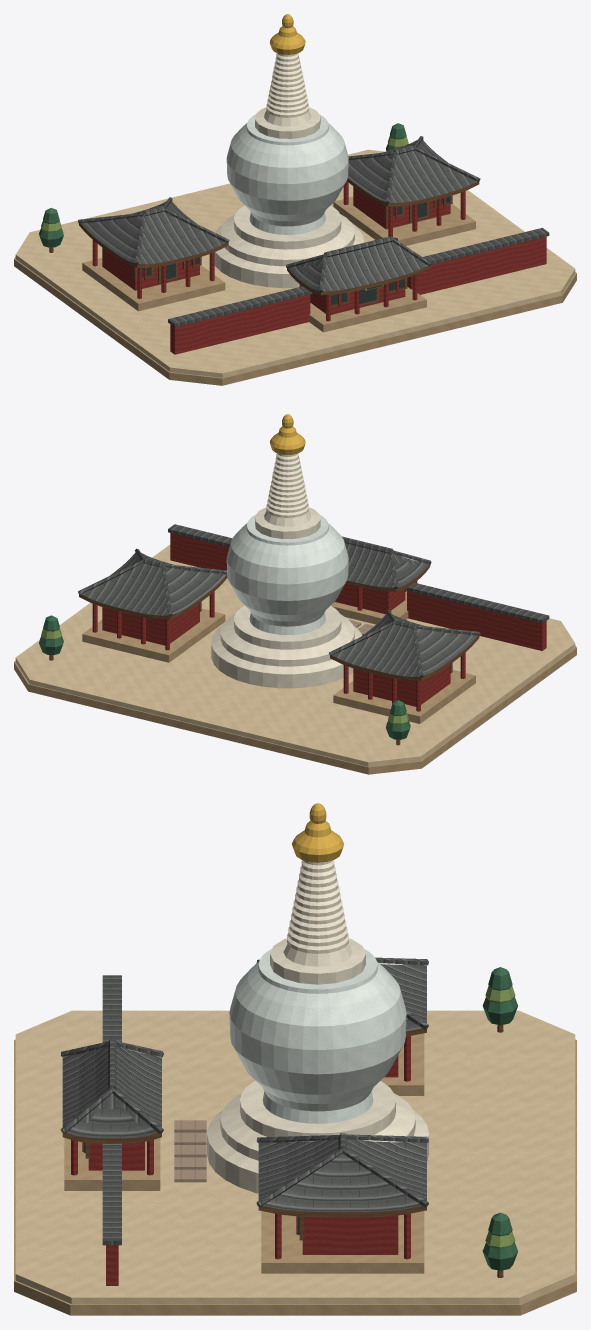
Rendered from wutai.glb.
3 views of the same model, one above another, from view 1: azimuth 30°, elevation 25°; view 2: azimuth 150°, elevation 25°; view 3: azimuth 270°, elevation 25° (orthographic). The views are drawn at different scales.
Visible parts, largest first — view 1: 五台山; view 2: 五台山; view 3: 五台山.
Part boxes in pixels (x1,y1,x2,y2): 五台山: (14, 14, 576, 385); 五台山: (14, 414, 576, 774); 五台山: (14, 803, 576, 1315).
Bounding box in the file's own units: 9.1 × 5.4 × 7.5.
12 materials, 12 textured.
